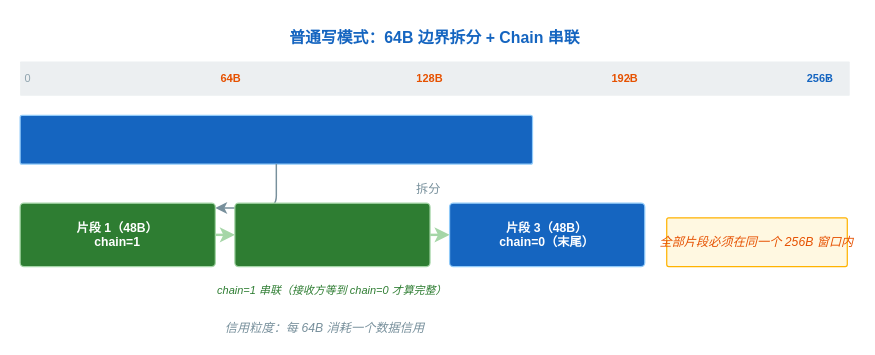
Image size: 875x355. Some labels were removed from this diagram. The shapes that lost their labels are listed below. From the top down, each one's centre as x and y in pixels, then its label:
At [276,139]: "原始写事务（跨越多个 64B 边界，总长 160B）".
At [332,234]: "片段 2（64B） chain=1".
